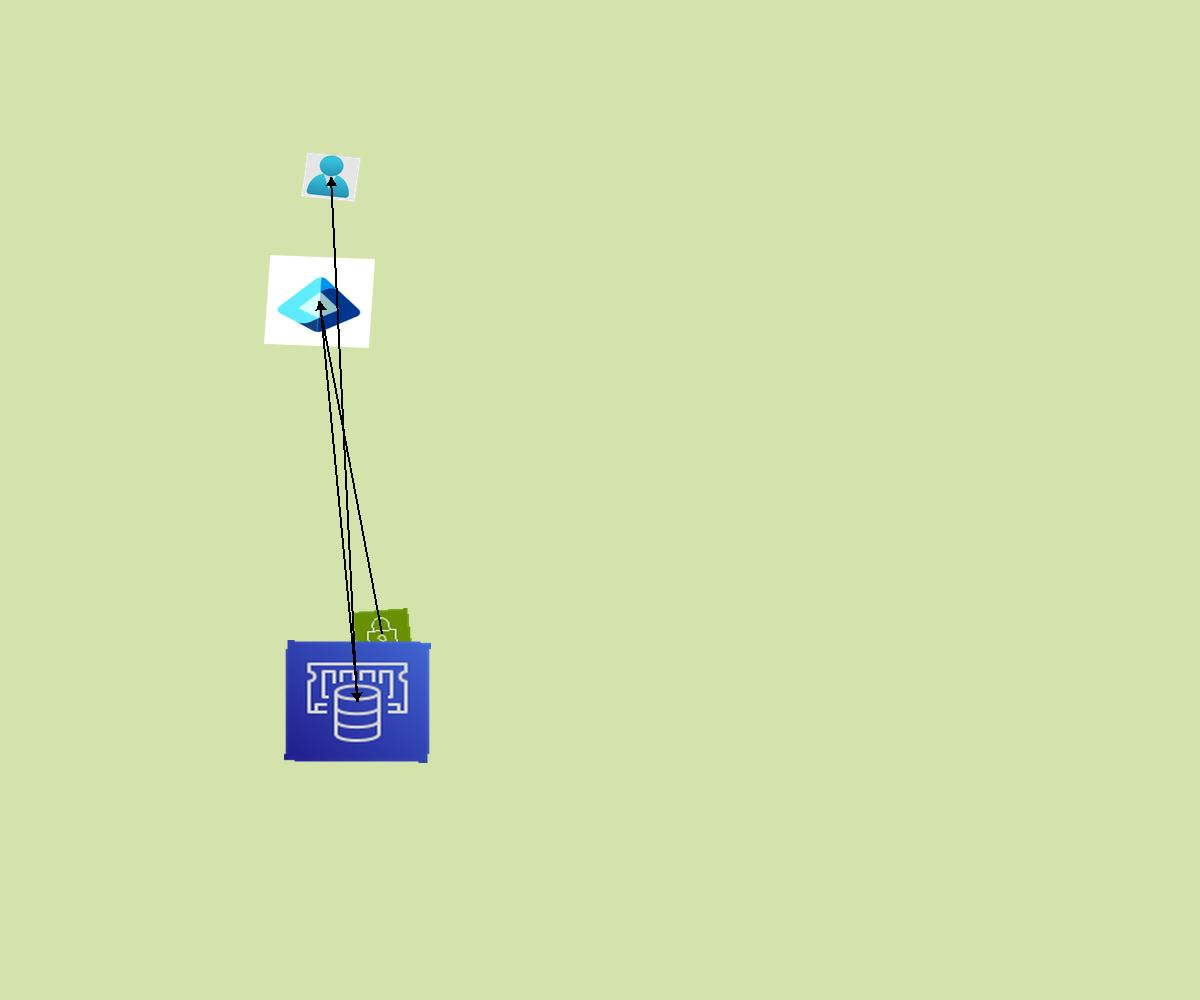AWS-ElastiCache: (284, 640, 431, 763)
AWS-Public-subnet: (352, 608, 413, 659)
Azure_microsoft_entra: (264, 255, 375, 348)
Azure_users: (301, 152, 361, 202)
